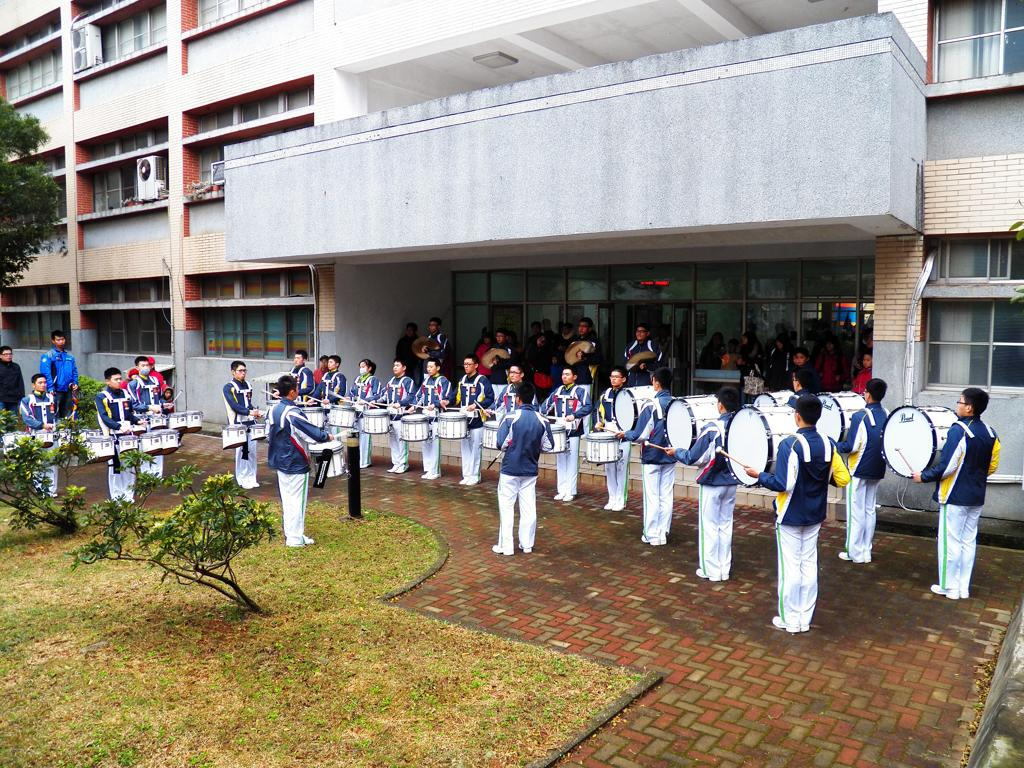face: (957, 394, 972, 416), (110, 374, 123, 389), (138, 361, 150, 376), (562, 371, 574, 385), (611, 372, 623, 386), (236, 365, 247, 380), (36, 378, 47, 392), (464, 358, 474, 373), (510, 369, 520, 383), (793, 373, 800, 392), (54, 335, 65, 347), (711, 337, 722, 349), (427, 362, 437, 375), (291, 384, 300, 398), (636, 328, 646, 340), (3, 350, 12, 362), (394, 362, 403, 374), (579, 323, 588, 335), (295, 353, 303, 366), (797, 354, 806, 365), (653, 377, 660, 391), (863, 355, 871, 367), (865, 387, 871, 402), (328, 359, 336, 370), (532, 325, 541, 334), (497, 333, 505, 343), (360, 363, 368, 372), (430, 322, 437, 332), (867, 336, 873, 347), (165, 390, 172, 399), (543, 321, 550, 330), (132, 374, 139, 382), (516, 394, 521, 405), (321, 358, 327, 367), (743, 335, 748, 345), (407, 328, 413, 336), (564, 327, 570, 335), (778, 340, 784, 348), (827, 343, 833, 351), (793, 356, 798, 364), (484, 338, 489, 344)
